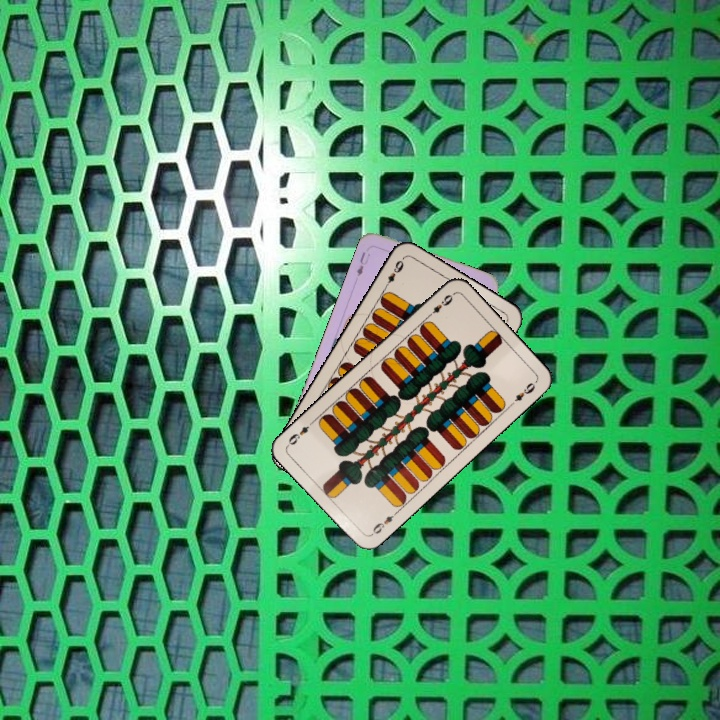E9: (367, 507, 401, 538), (423, 290, 456, 321), (380, 255, 406, 292)
EU: (352, 248, 372, 279)
